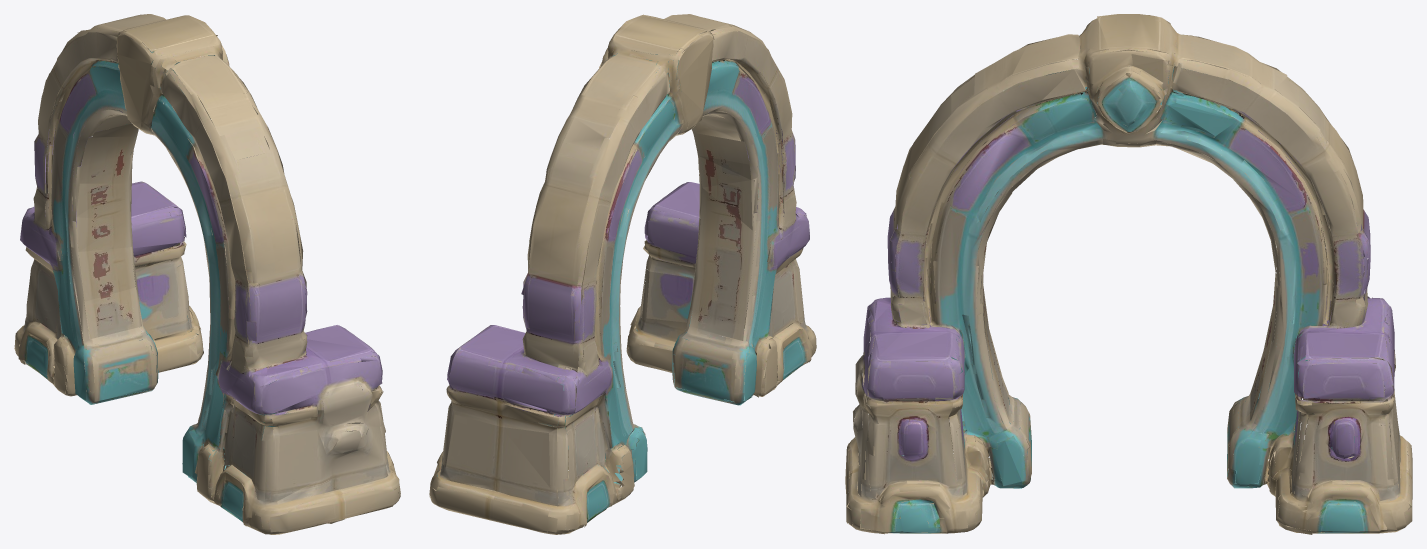
File: 04-garden-portal-arch.glb
The picture shows the model from 3 angles, left to right: view 1: azimuth 30°, elevation 25°; view 2: azimuth 150°, elevation 25°; view 3: azimuth 270°, elevation 25°; orthographic projection. The views are drawn at different scales.
Visible parts, largest first — view 1: tripo_node_7e82de84; view 2: tripo_node_7e82de84; view 3: tripo_node_7e82de84.
Part boxes in pixels (left/top/right/bottom): tripo_node_7e82de84: left=14, top=14, right=400, bottom=534; tripo_node_7e82de84: left=429, top=14, right=816, bottom=534; tripo_node_7e82de84: left=845, top=14, right=1412, bottom=534.
Bounding box in the file's own units: 0.4738 × 1.2 × 1.36.
Materials: 1 (1 with a texture image).
